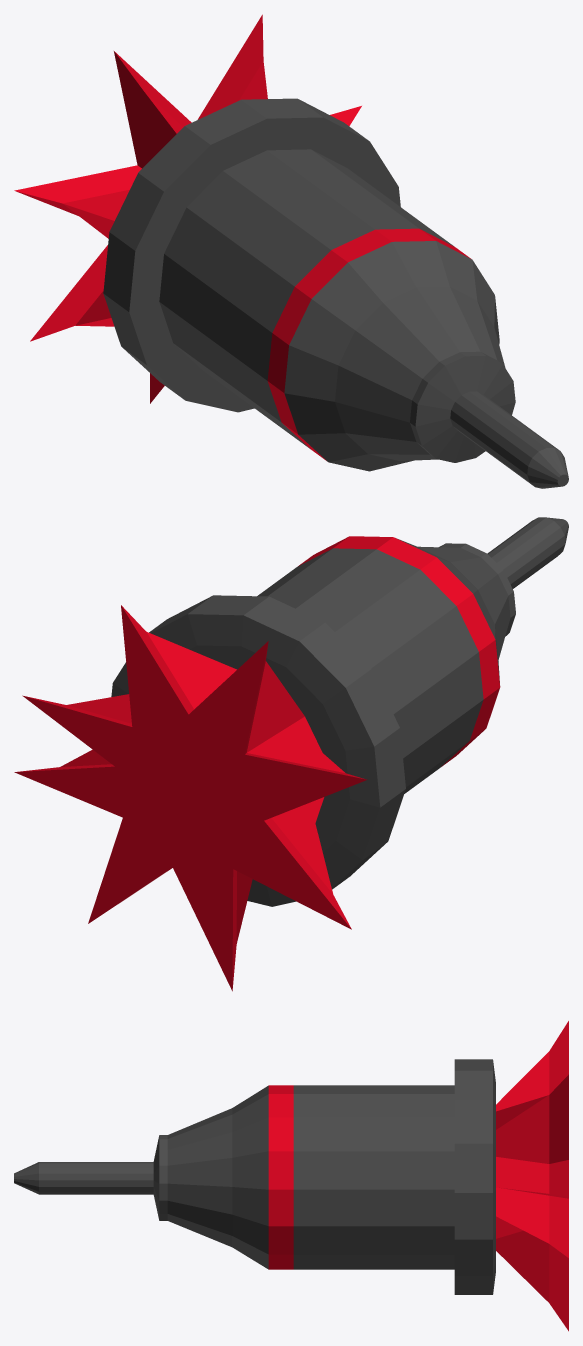
File: Dart.fbx
The picture shows the model from 3 angles, top to bottom: view 1: azimuth 30°, elevation 25°; view 2: azimuth 150°, elevation 25°; view 3: azimuth 270°, elevation 25°; orthographic projection. The views are drawn at different scales.
Visible parts, largest first — view 1: Cylinder; view 2: Cylinder; view 3: Cylinder.
Part boxes in pixels (bbox=[...]): Cylinder: bbox=[14, 14, 568, 488]; Cylinder: bbox=[14, 517, 568, 991]; Cylinder: bbox=[14, 1021, 568, 1331].
Bounding box in the file's own units: 0.6247 × 0.6074 × 1.13.
